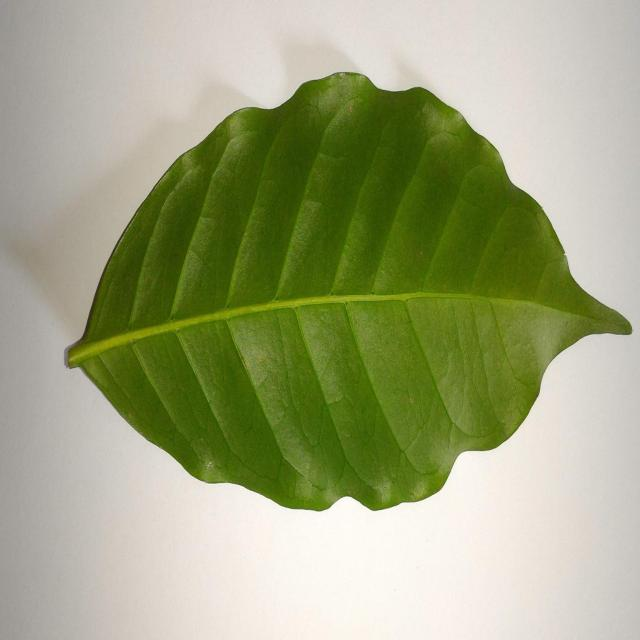nodisease: (66, 72, 632, 511)
